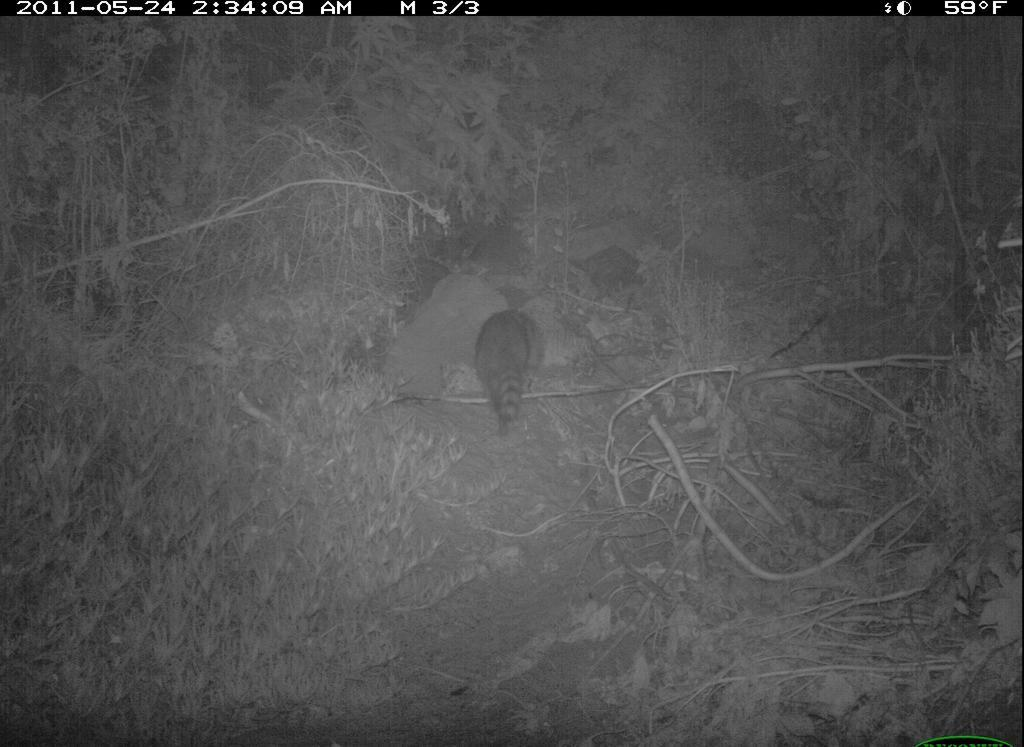raccoon: (468, 292, 556, 433)
